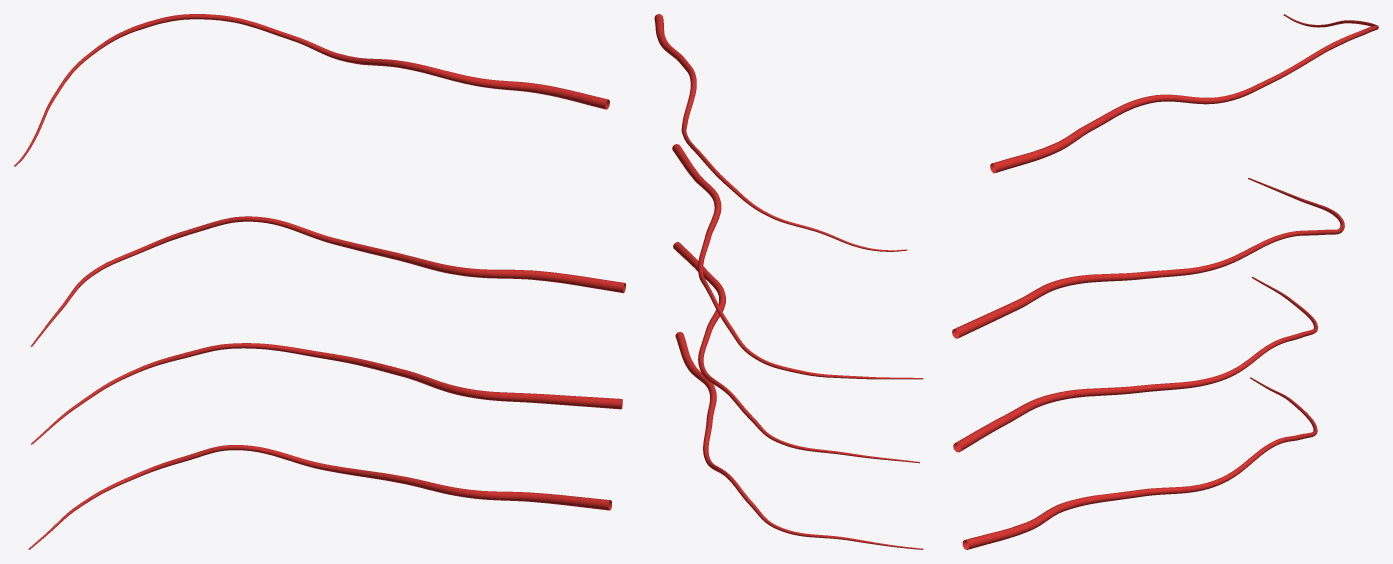
Rendered from circulatorio-lumbar-arteries-r.glb.
3 renders of one model, left to right at view 1: azimuth 30°, elevation 25°; view 2: azimuth 150°, elevation 25°; view 3: azimuth 270°, elevation 25°, orthographic. The views are drawn at different scales.
Parts seen in each view (by area): view 1: Lumbar arteries.r; view 2: Lumbar arteries.r; view 3: Lumbar arteries.r.
Boxes of the visible parts, box(x1,y1,x2,y2) form: Lumbar arteries.r: box(14, 14, 625, 549); Lumbar arteries.r: box(654, 14, 923, 549); Lumbar arteries.r: box(952, 14, 1378, 549).
Size of the model in its own units: 0.0993 by 0.0945 by 0.0825.
